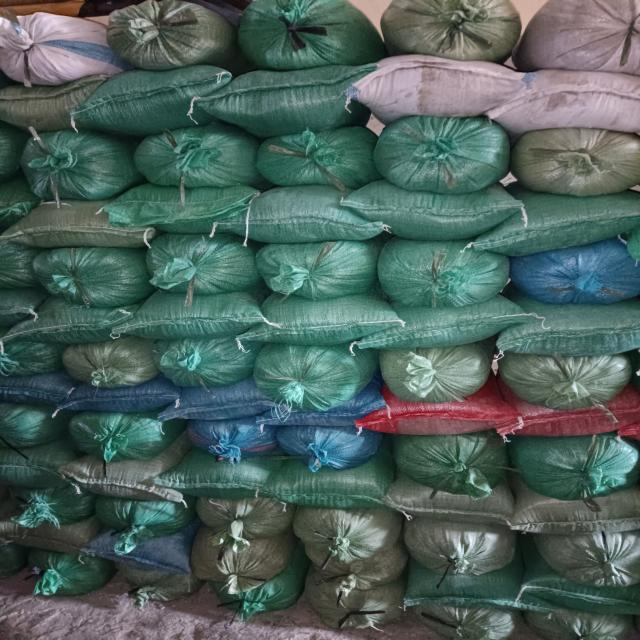Bistay sand: (204, 71, 375, 130), (523, 1, 640, 76), (83, 74, 214, 133), (518, 438, 640, 501), (386, 121, 497, 190), (375, 61, 513, 115), (503, 77, 640, 131), (523, 129, 632, 194), (25, 131, 131, 197), (140, 129, 253, 188), (258, 128, 371, 187), (261, 342, 361, 407), (5, 18, 109, 78), (114, 7, 218, 67), (252, 1, 356, 61), (400, 1, 504, 61), (34, 248, 144, 304), (387, 251, 491, 309), (527, 248, 631, 306), (378, 305, 525, 346), (257, 299, 404, 340), (120, 296, 267, 337), (148, 231, 251, 289), (264, 240, 367, 298), (294, 508, 401, 563), (363, 191, 508, 230), (230, 196, 375, 235), (511, 355, 626, 404), (496, 197, 640, 236), (409, 527, 512, 581), (538, 531, 640, 585), (1, 205, 141, 244), (411, 436, 502, 494), (123, 187, 258, 226), (315, 575, 405, 630), (1, 75, 92, 128), (191, 538, 291, 584), (385, 345, 481, 392), (7, 304, 122, 342), (163, 341, 257, 386), (65, 341, 158, 386), (185, 420, 278, 465), (72, 416, 164, 461), (278, 427, 371, 471), (63, 461, 176, 494), (318, 546, 409, 586), (390, 490, 511, 519), (263, 477, 384, 506), (520, 502, 640, 531), (159, 464, 273, 493), (95, 497, 181, 535), (195, 496, 281, 533), (376, 410, 503, 435), (514, 409, 640, 434), (227, 575, 317, 610), (526, 586, 640, 612), (526, 614, 640, 640), (410, 585, 525, 610), (8, 487, 84, 524), (266, 404, 376, 429), (169, 394, 279, 419), (73, 391, 183, 416), (1, 526, 96, 554), (88, 538, 183, 566), (1, 452, 71, 489), (31, 560, 108, 593), (417, 611, 518, 636), (121, 567, 198, 599), (1, 409, 59, 448), (1, 343, 60, 379), (1, 377, 73, 406), (1, 246, 29, 285)
